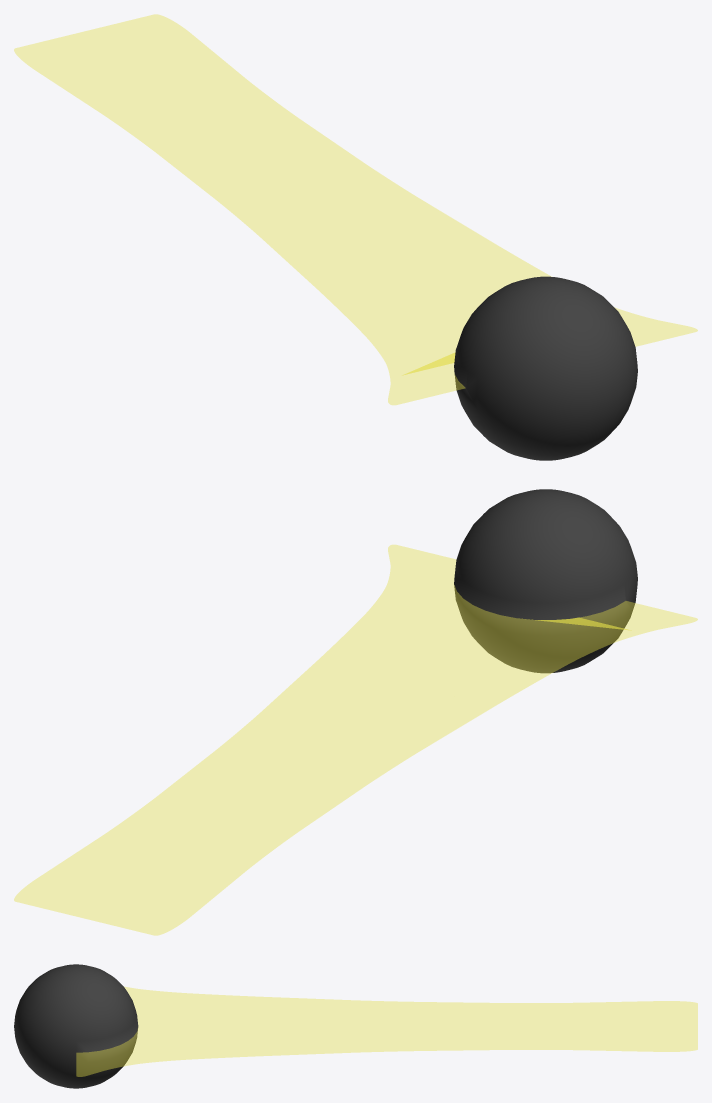
The model's file is bullet_and_trail.fbx.
The picture shows the model from 3 angles, top to bottom: view 1: azimuth 30°, elevation 25°; view 2: azimuth 150°, elevation 25°; view 3: azimuth 270°, elevation 25°; orthographic projection. The views are drawn at different scales.
Parts seen in each view (by area): view 1: bullet; view 2: bullet; view 3: bullet.
Part boxes in pixels (x1,y1,x2,y2): bullet: [14, 14, 697, 460]; bullet: [14, 489, 697, 935]; bullet: [14, 964, 697, 1088].
Size of the model in its own units: 385 by 200 by 1100.
